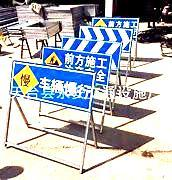sign: (7, 71, 93, 97), (43, 47, 111, 69), (94, 19, 137, 29)
